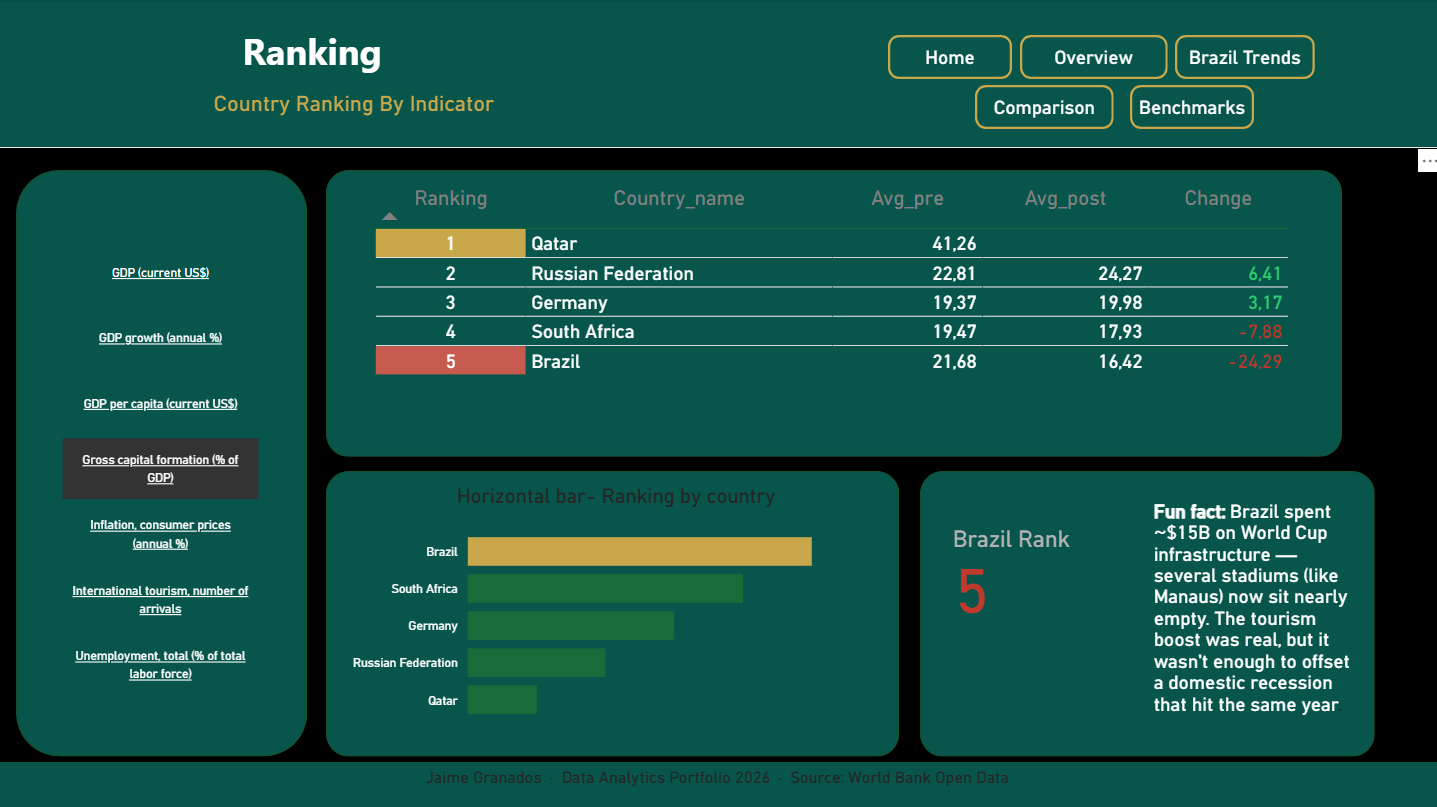

The dashboard page shown, as its layout file describes it:
{"tool":"powerbi","page":{"name":"Rankings","canvas":[1280,720],"ordinal":4},"visuals":[{"type":"shape","box":[0,0,1280,132.2],"z":0},{"type":"textbox","box":[144,19,268,66],"z":1000},{"type":"textbox","box":[176,76,288,42],"z":2000},{"type":"shape","box":[15,151.7,258.3,520],"z":3000},{"type":"slicer","fields":{"Values":["v_rankings.series_name"]},"box":[30,208,224,416],"z":4000},{"type":"shape","box":[290,151.6,900.9,254.5],"z":5000},{"type":"shape","box":[290,418.3,508.3,253.3],"z":6000},{"type":"shape","box":[816.7,418.9,403.3,253.3],"z":7000},{"type":"tableEx","fields":{"Values":["v_rankings.ranking","v_rankings.country_name","Avg(v_rankings.avg_pre)","Avg(v_rankings.avg_post)","Avg(v_rankings.pct_change)"]},"box":[328,157.8,837,236.7],"z":8000},{"type":"clusteredBarChart","title":"Horizontal bar- Ranking by country","fields":{"Category":["v_rankings.country_name"],"Y":["Sum(v_rankings.ranking)"]},"box":[308,430,479,223],"z":9000},{"type":"cardVisual","fields":{"Data":["v_rankings.Brazil Rank"]},"box":[816.7,438.3,188.3,145],"z":10000},{"type":"textbox","box":[1018.9,438.9,187.8,233.3],"z":11000},{"type":"shape","box":[0,676.7,1280,43.3],"z":12000},{"type":"textbox","box":[251.1,676.7,772.2,43.3],"z":13000},{"type":"actionButton","box":[905,32,131,39],"z":14000},{"type":"actionButton","box":[1043,32,124,39],"z":15000},{"type":"actionButton","box":[865,76,123,39],"z":16000},{"type":"actionButton","box":[1003,76,110,39],"z":17000},{"type":"actionButton","box":[788,32,110,39],"z":18000}]}

Visuals, with their boxes in screenshot pixels (x1, y1, x2, y2), scaled from the page's 1280x720 canvas onto the 1437x807 screenshot:
shape: (0, 0, 1436, 148)
textbox: (162, 21, 463, 95)
textbox: (198, 85, 521, 132)
shape: (17, 170, 307, 753)
slicer - v_rankings.series_name: (34, 233, 285, 699)
shape: (326, 170, 1337, 455)
shape: (326, 469, 896, 753)
shape: (917, 470, 1370, 753)
tableEx - v_rankings.ranking x v_rankings.country_name: (368, 177, 1308, 442)
"Horizontal bar- Ranking by country" clusteredBarChart: (346, 482, 884, 732)
cardVisual - v_rankings.Brazil Rank: (917, 491, 1128, 654)
textbox: (1144, 492, 1355, 753)
shape: (0, 758, 1436, 806)
textbox: (282, 758, 1149, 806)
actionButton: (1016, 36, 1163, 80)
actionButton: (1171, 36, 1310, 80)
actionButton: (971, 85, 1109, 129)
actionButton: (1126, 85, 1250, 129)
actionButton: (885, 36, 1008, 80)
